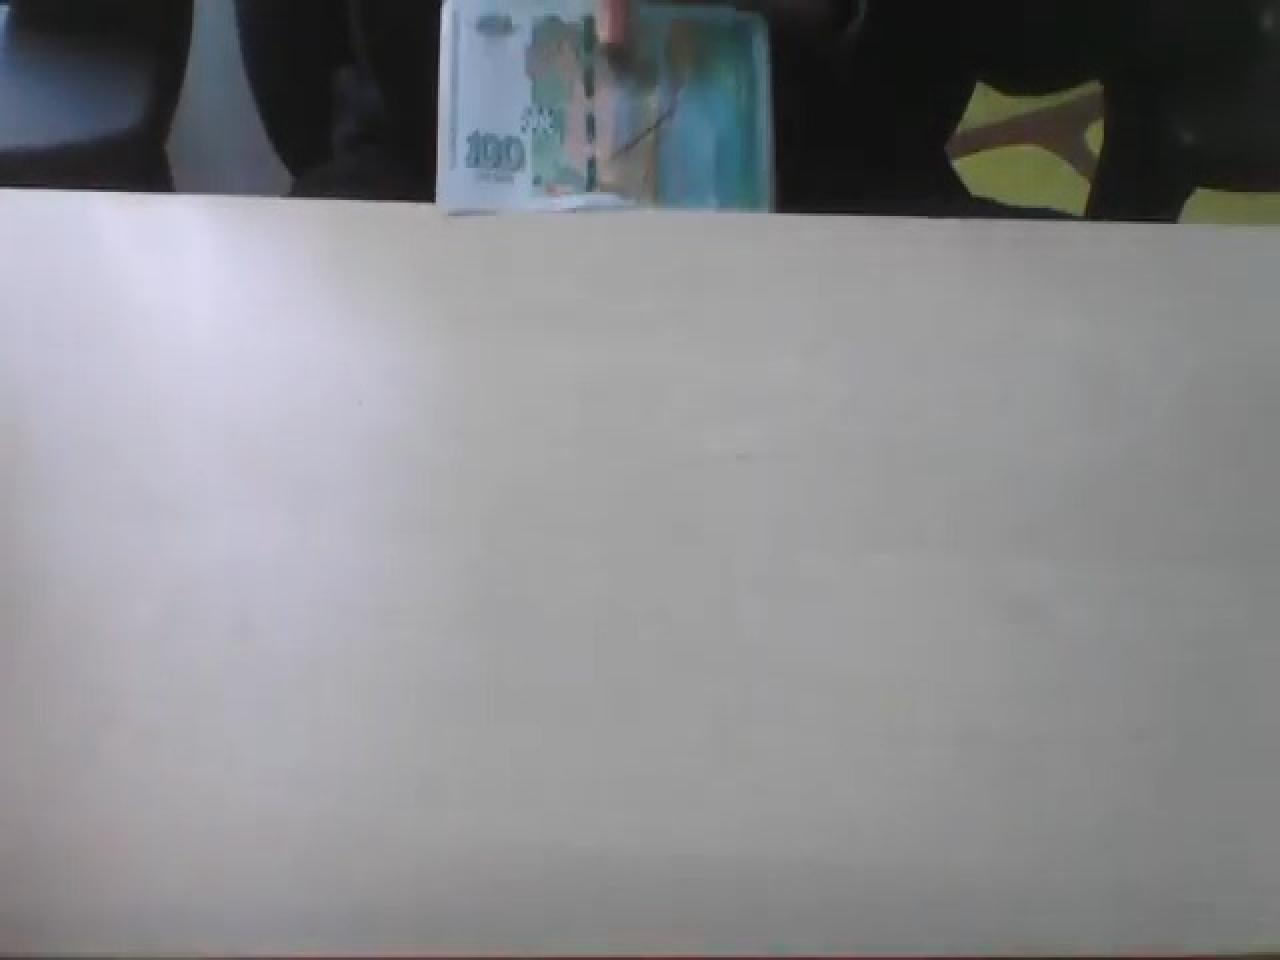100leva: (434, 0, 774, 213), (462, 125, 526, 178)
